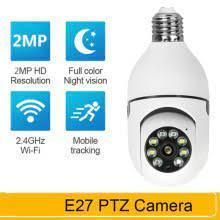maru: (117, 90, 220, 184)
